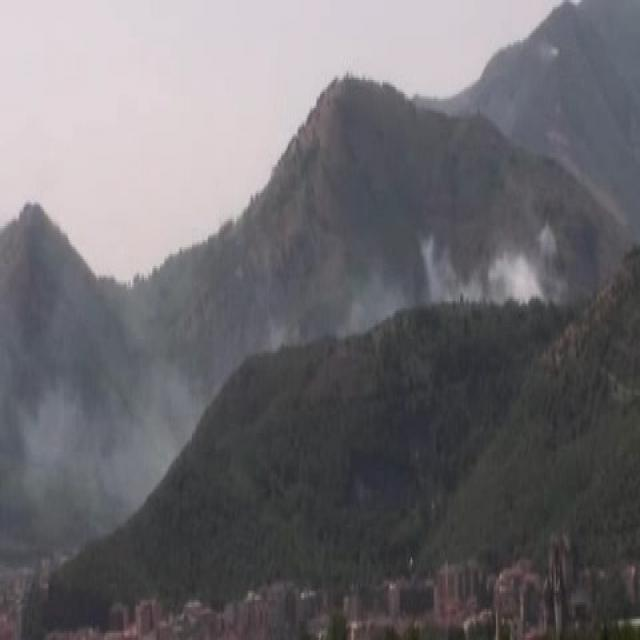smoke: (420, 217, 554, 306)
